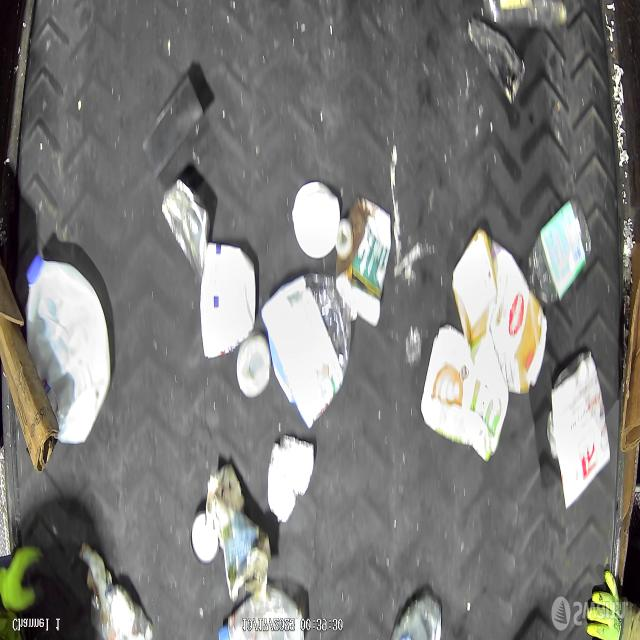can: (163, 178, 212, 279)
milk_jug: (25, 253, 112, 444)
non_white_jug: (452, 230, 547, 393), (421, 324, 509, 462)
plastic_bottle: (525, 199, 592, 307), (482, 1, 566, 30)
